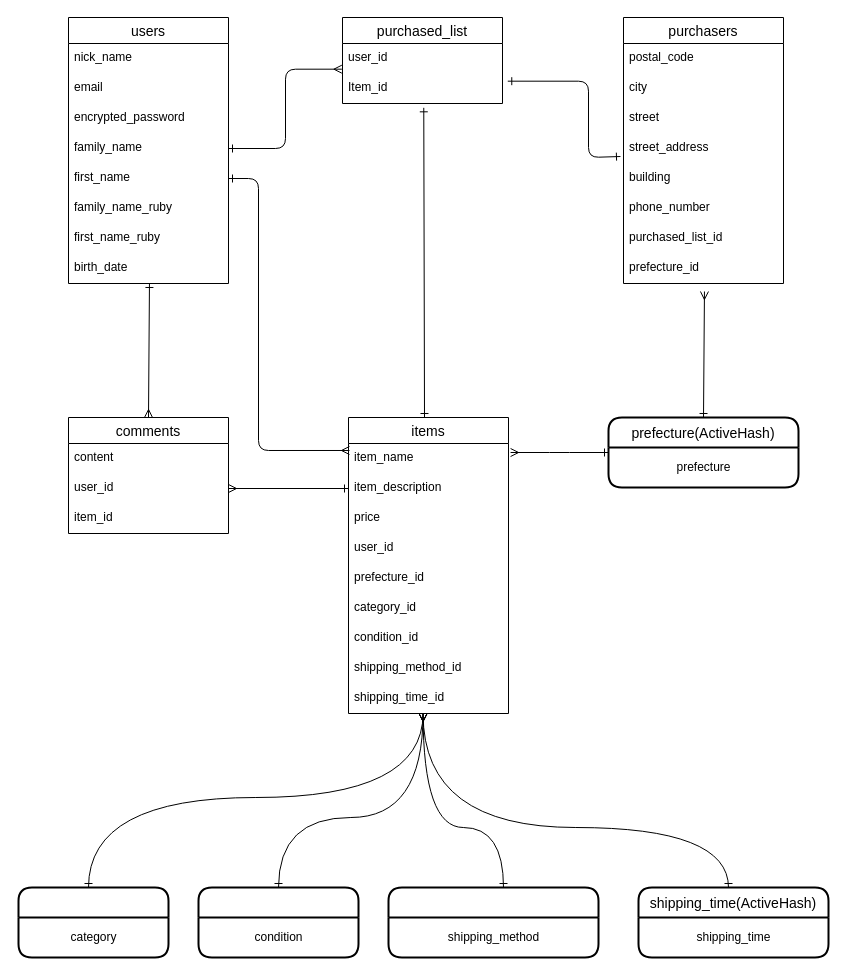
This 846x976 diagram has some shape labels left out. The shapes that lost their labels are listed below. From the top down, each one's box as (x1, y1, x2, y2) in pixels, then its label:
(17, 886, 169, 958): category(ActiveHash)
(197, 886, 359, 958): condition(ActiveHash)
(387, 886, 599, 958): shipping_method(ActiveHash)
